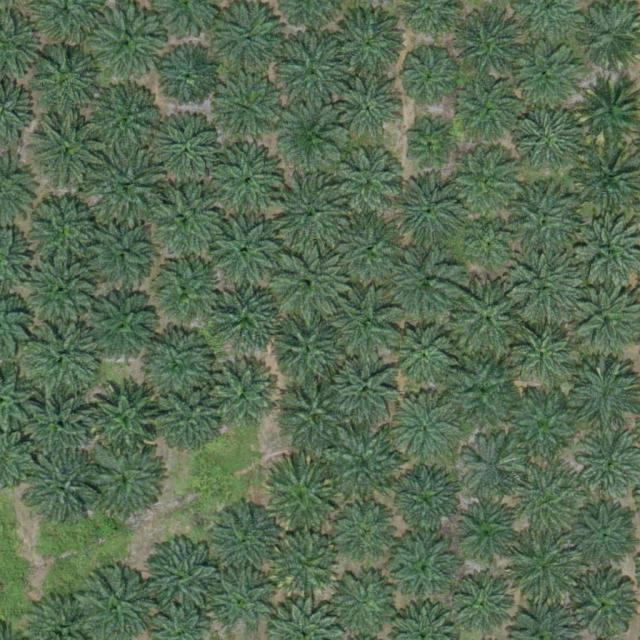Healthy: (276, 36, 354, 115), (88, 82, 166, 161), (29, 46, 107, 125), (29, 116, 107, 195), (27, 252, 105, 331), (26, 320, 104, 399), (24, 450, 102, 529), (140, 184, 218, 263), (86, 378, 164, 457), (88, 443, 166, 522), (271, 174, 349, 253), (269, 246, 347, 325), (454, 281, 532, 360), (508, 186, 586, 265), (143, 539, 221, 618), (86, 3, 164, 81), (27, 194, 105, 272), (143, 253, 221, 331), (136, 327, 214, 405), (510, 108, 581, 179), (86, 292, 157, 363), (334, 216, 405, 287), (332, 149, 403, 220), (511, 251, 582, 322), (567, 502, 638, 573), (455, 10, 525, 81), (333, 6, 403, 77), (210, 75, 281, 145), (22, 392, 92, 463), (87, 221, 157, 292), (95, 149, 165, 220), (152, 383, 223, 453), (209, 217, 279, 288), (274, 317, 344, 388), (332, 356, 402, 427), (330, 291, 400, 362), (392, 179, 462, 250), (393, 250, 463, 321), (448, 362, 518, 433), (507, 394, 577, 465), (511, 531, 581, 602), (277, 104, 347, 174), (159, 118, 229, 188), (209, 360, 279, 430), (214, 282, 284, 352), (212, 149, 282, 219), (279, 379, 349, 449), (330, 433, 400, 503), (392, 469, 462, 539), (510, 469, 580, 539), (570, 362, 640, 432), (567, 570, 637, 640), (329, 568, 399, 638), (455, 504, 518, 567), (459, 439, 522, 502), (455, 155, 518, 218), (210, 570, 273, 633), (459, 79, 521, 142), (339, 78, 401, 141), (159, 47, 221, 110), (392, 324, 455, 386), (397, 397, 459, 460), (451, 573, 513, 636), (394, 537, 456, 600), (333, 501, 395, 564), (218, 509, 280, 572), (516, 42, 578, 104), (513, 321, 575, 383), (403, 52, 458, 107), (405, 123, 452, 171), (469, 223, 516, 270)
Yellow: (263, 461, 341, 539), (274, 533, 337, 596)
